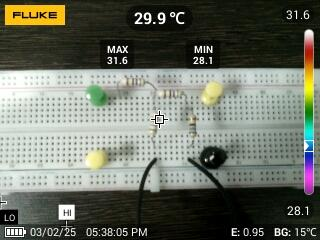resistor: (145, 114, 163, 140), (118, 75, 147, 89), (185, 112, 199, 140), (155, 87, 186, 99)
